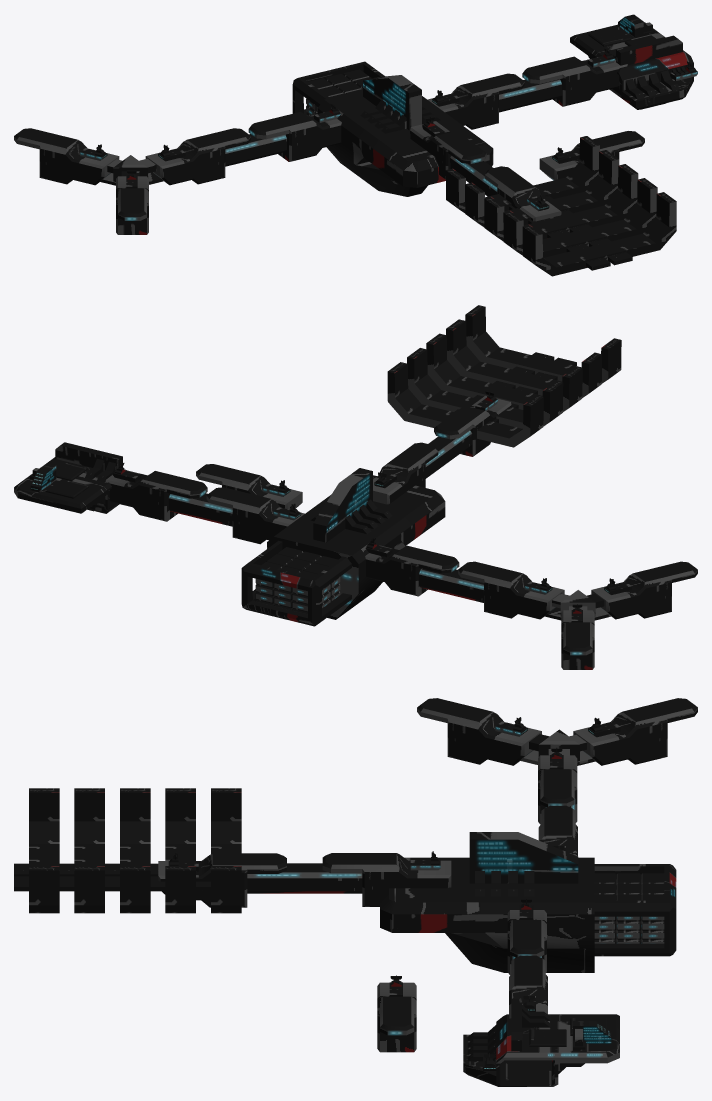
File: Station II.fbx
The picture shows the model from 3 angles, top to bottom: view 1: azimuth 30°, elevation 25°; view 2: azimuth 150°, elevation 25°; view 3: azimuth 270°, elevation 25°; orthographic projection. The views are drawn at different scales.
Parts seen in each view (by area): view 1: Cube_3, Cube_1, Cube_4, Cube_4_2, Cube_4_3, Cube_2_7, Cube_2_6, Cube_2_10, Cube_4_4, Cube_2_4, Cube_4_5, Cube_2_5 (+12 smaller); view 2: Cube_3, Cube_4_7, Cube_4_5, Cube_4, Cube_4_2, Cube_4_3, Cube_1, Cube_2_8, Cube_2_7, Cube_4_4, Cube_2_10, Cube_2_4 (+11 smaller); view 3: Cube_3, Cube_1, Cube_4_6, Cube_2_8, Cube_2_6, Cube_4, Cube_4_3, Cube_4_2, Cube_4_4, Cube_4_7, Cube_2_2, Cube_4_5 (+10 smaller).
Part boxes in pixels (<box>): Cube_3: <box>317,90,493,196</box>; Cube_1: <box>570,22,693,109</box>; Cube_4: <box>522,192,676,276</box>; Cube_4_2: <box>503,178,657,257</box>; Cube_4_3: <box>484,164,638,241</box>; Cube_2_7: <box>145,128,250,185</box>; Cube_2_6: <box>14,128,119,185</box>; Cube_2_10: <box>522,56,627,106</box>; Cube_4_4: <box>465,150,619,226</box>; Cube_2_4: <box>248,112,341,161</box>; Cube_4_5: <box>445,136,599,213</box>; Cube_2_5: <box>427,73,524,129</box>; Cube_3: <box>267,475,445,619</box>; Cube_4_7: <box>241,540,351,626</box>; Cube_4_5: <box>387,362,543,447</box>; Cube_4: <box>465,305,621,383</box>; Cube_4_2: <box>446,319,601,397</box>; Cube_4_3: <box>426,333,582,411</box>; Cube_1: <box>14,442,126,513</box>; Cube_2_8: <box>591,561,697,619</box>; Cube_2_7: <box>458,561,564,619</box>; Cube_4_4: <box>407,348,563,428</box>; Cube_2_10: <box>105,469,207,521</box>; Cube_2_4: <box>365,545,459,596</box>; Cube_3: <box>380,857,594,972</box>; Cube_1: <box>463,998,619,1086</box>; Cube_4_6: <box>469,832,578,883</box>; Cube_2_8: <box>417,698,541,765</box>; Cube_2_6: <box>573,698,697,765</box>; Cube_4: <box>14,788,59,913</box>; Cube_4_3: <box>105,788,150,913</box>; Cube_4_2: <box>59,788,104,913</box>; Cube_4_4: <box>150,788,195,913</box>; Cube_4_7: <box>594,864,676,956</box>; Cube_2_2: <box>322,853,451,906</box>; Cube_4_5: <box>196,788,241,913</box>.
Bounding box in the file's own units: 66423 × 11863 × 55240.
